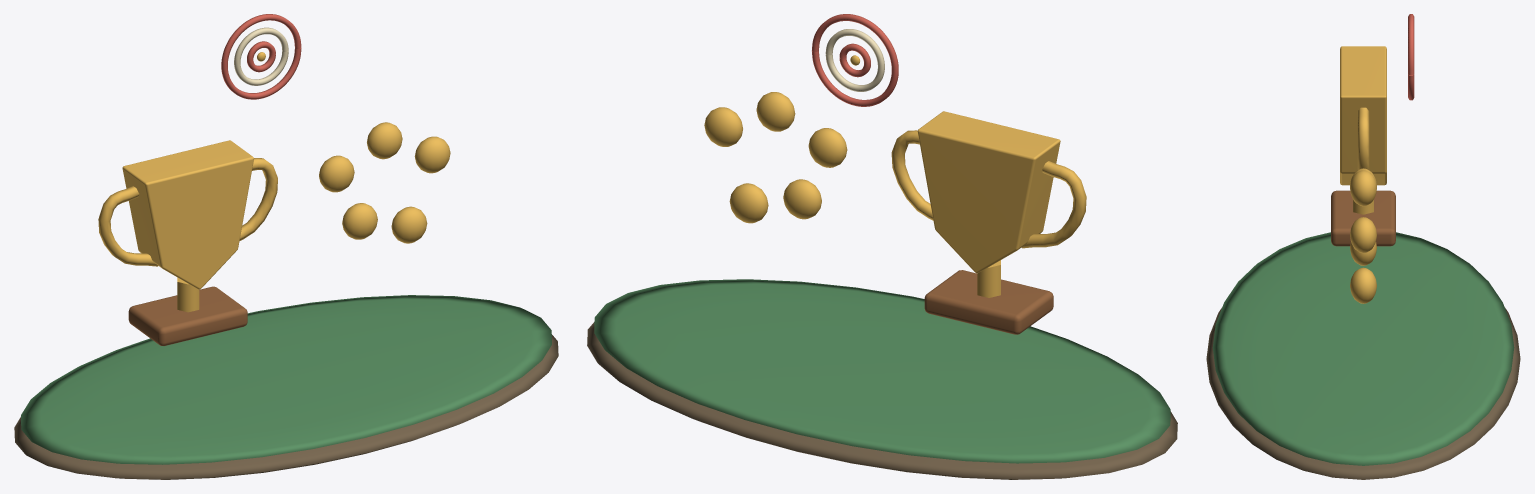
The model's file is complete-third-special-point.glb.
3 renders of one model, left to right at view 1: azimuth 30°, elevation 25°; view 2: azimuth 150°, elevation 25°; view 3: azimuth 270°, elevation 25°, orthographic. The views are drawn at different scales.
Visible parts, largest first — view 1: complete-third-special-point_surface_01, complete-third-special-point_surface_02, complete-third-special-point_surface_00, complete-third-special-point_surface_03, complete-third-special-point_surface_04, complete-third-special-point_surface_05; view 2: complete-third-special-point_surface_01, complete-third-special-point_surface_02, complete-third-special-point_surface_00, complete-third-special-point_surface_03, complete-third-special-point_surface_04, complete-third-special-point_surface_05; view 3: complete-third-special-point_surface_01, complete-third-special-point_surface_02, complete-third-special-point_surface_00, complete-third-special-point_surface_03, complete-third-special-point_surface_04.
Part boxes in pixels (x1,y1,x2,y2): complete-third-special-point_surface_01: (21,295,551,464); complete-third-special-point_surface_02: (98,52,450,312); complete-third-special-point_surface_00: (14,335,558,479); complete-third-special-point_surface_03: (128,286,247,345); complete-third-special-point_surface_04: (221,14,301,99); complete-third-special-point_surface_05: (234,27,288,85); complete-third-special-point_surface_01: (594,279,1170,463); complete-third-special-point_surface_02: (704,55,1086,297); complete-third-special-point_surface_00: (587,322,1177,479); complete-third-special-point_surface_03: (924,270,1053,334); complete-third-special-point_surface_04: (812,14,898,106); complete-third-special-point_surface_05: (825,29,884,91); complete-third-special-point_surface_01: (1212,232,1514,465); complete-third-special-point_surface_02: (1340,46,1386,303); complete-third-special-point_surface_00: (1206,308,1520,479); complete-third-special-point_surface_03: (1331,190,1395,246); complete-third-special-point_surface_04: (1408,14,1414,100).
Size of the model in its own units: 4.56 by 3.12 by 2.5.
